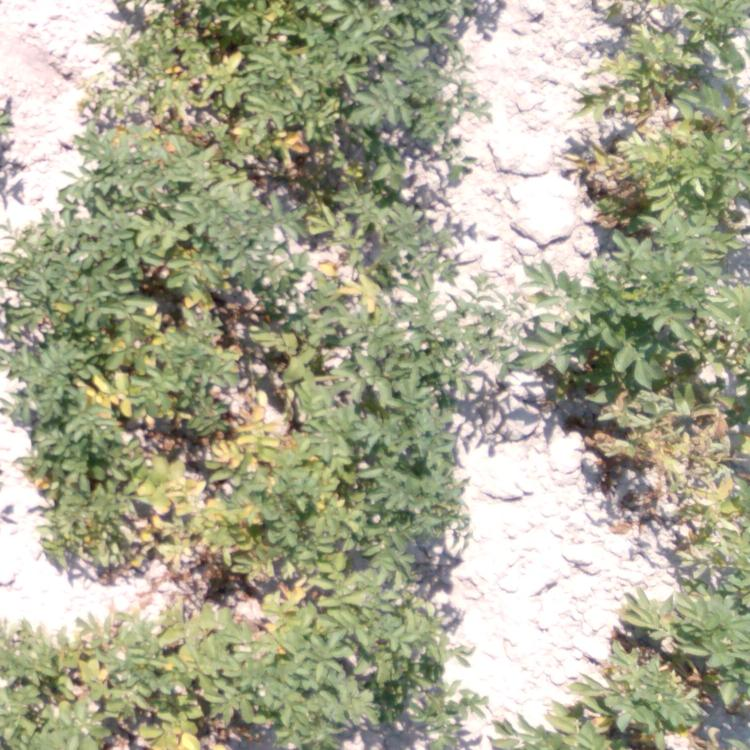healthy: (589, 241, 748, 413), (333, 567, 482, 748), (588, 585, 747, 750), (357, 339, 465, 566), (464, 263, 585, 413), (379, 1, 468, 194), (1, 186, 91, 339), (479, 712, 578, 750), (467, 1, 503, 55)
stressed: (82, 1, 378, 186), (1, 337, 187, 568), (193, 337, 356, 566), (92, 186, 298, 338), (172, 560, 331, 749), (299, 187, 463, 335), (584, 411, 750, 557), (575, 106, 750, 240), (1, 611, 164, 750), (595, 1, 750, 104)
